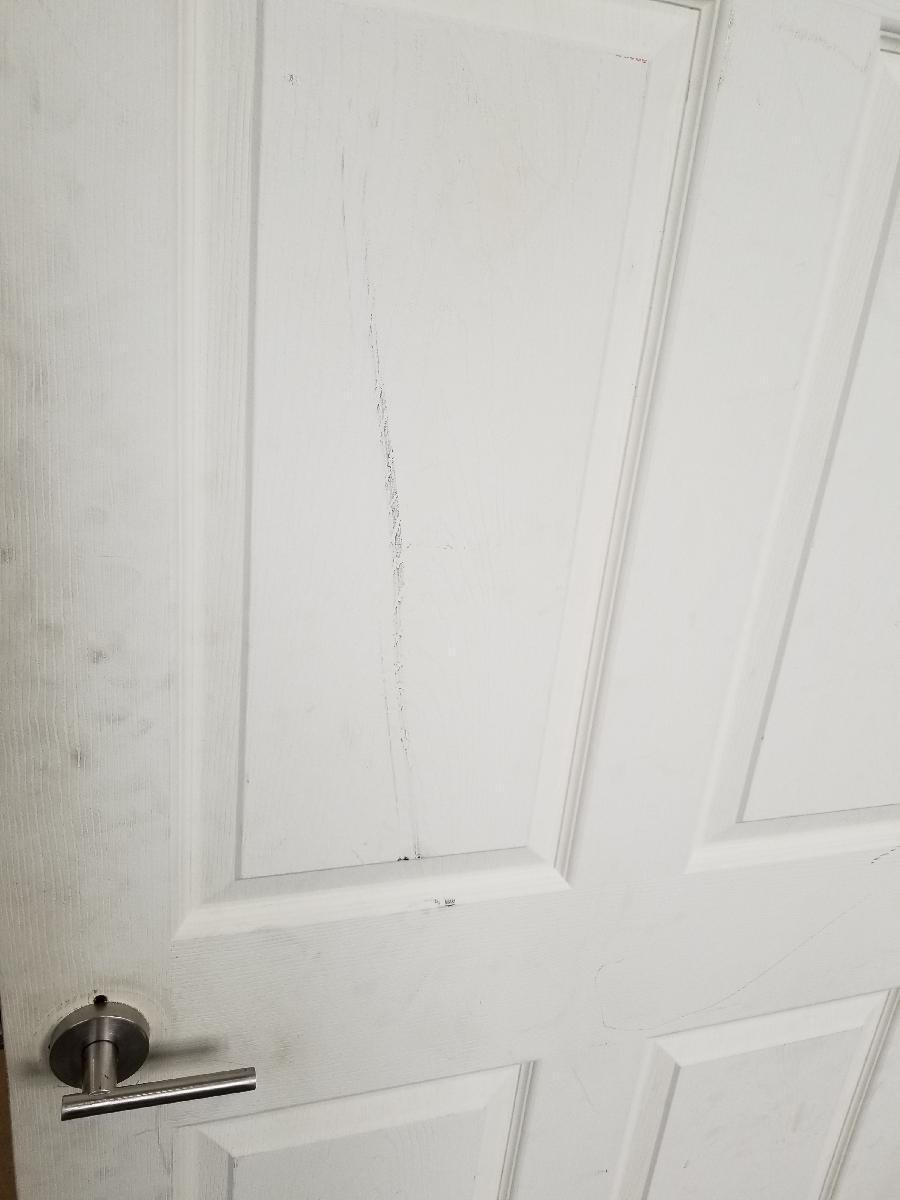door: (11, 5, 883, 1191)
handle: (45, 998, 264, 1127)
